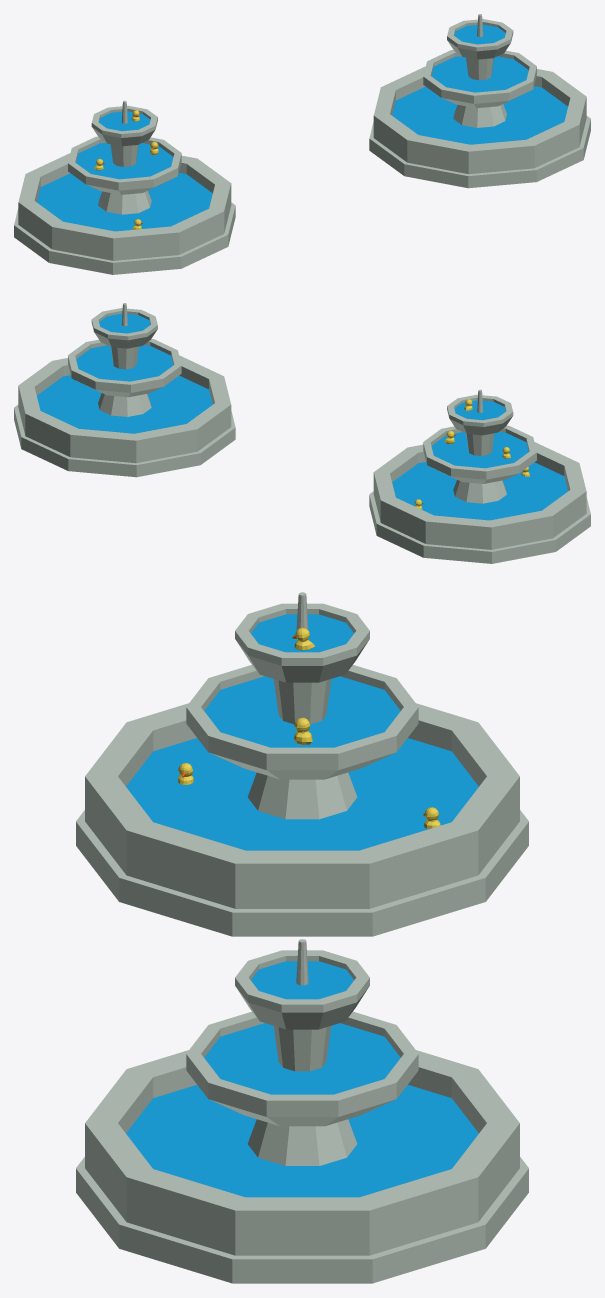
File: fountain.ver2.fbx
3 renders of one model, top to bottom at view 1: azimuth 30°, elevation 25°; view 2: azimuth 150°, elevation 25°; view 3: azimuth 270°, elevation 25°, orthographic. The views are drawn at different scales.
Parts seen in each view (by area): view 1: Circle.002, Circle, Circle.003, Circle.001; view 2: Circle.002, Circle, Circle.003, Circle.001; view 3: Circle.002, Circle, Circle.003, Circle.001.
Part boxes in pixels (x1,y1,x2,y2): Circle.002: (369, 14, 590, 188); Circle: (14, 100, 235, 274); Circle.003: (392, 24, 567, 144); Circle.001: (37, 111, 212, 231); Circle.002: (14, 303, 235, 477); Circle: (369, 389, 590, 563); Circle.003: (37, 313, 212, 433); Circle.001: (392, 400, 567, 520); Circle.002: (76, 939, 528, 1283); Circle: (76, 592, 528, 936); Circle.003: (126, 961, 478, 1197); Circle.001: (126, 614, 478, 850).
Size of the model in its own units: 552 by 123 by 200.
